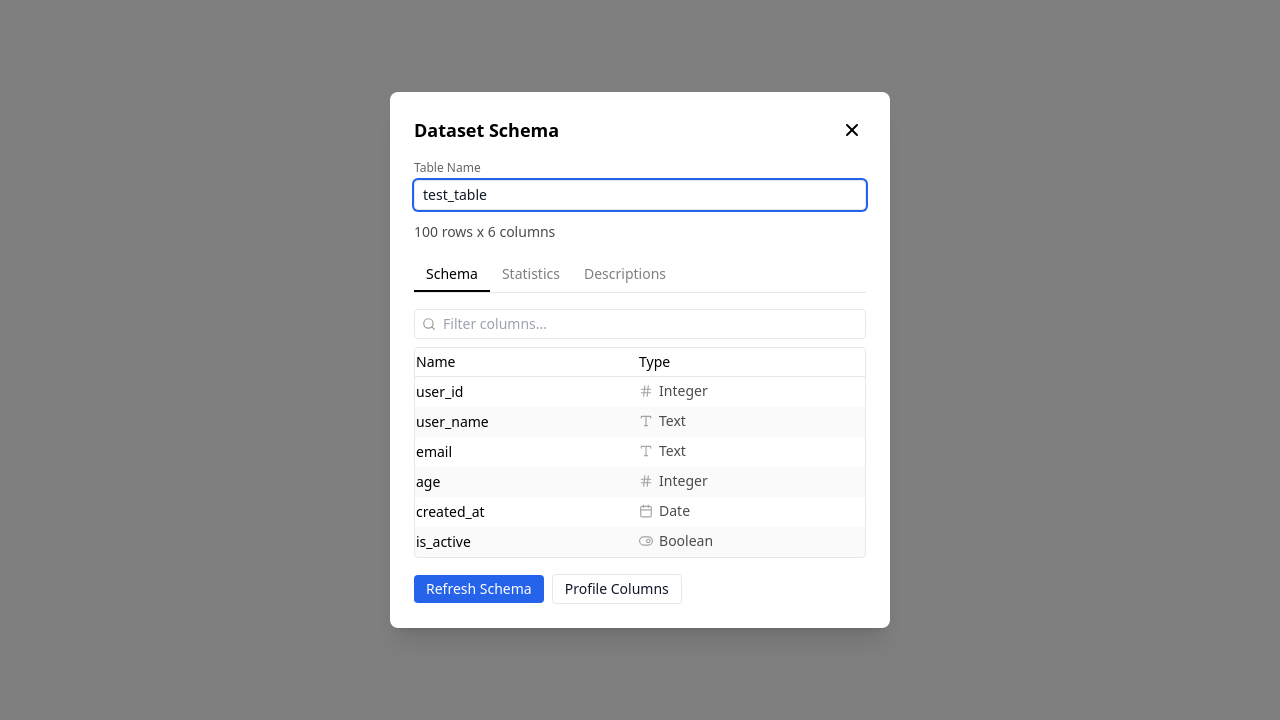
Scenario: SM-SEARCH-4: Shows no-results message › shows no results message when search has no matches
This screenshot has width=1280, height=720.
Type "nonexistent" into the field with test id "schema-column-search" at (640, 324), box [414,309,866,339]
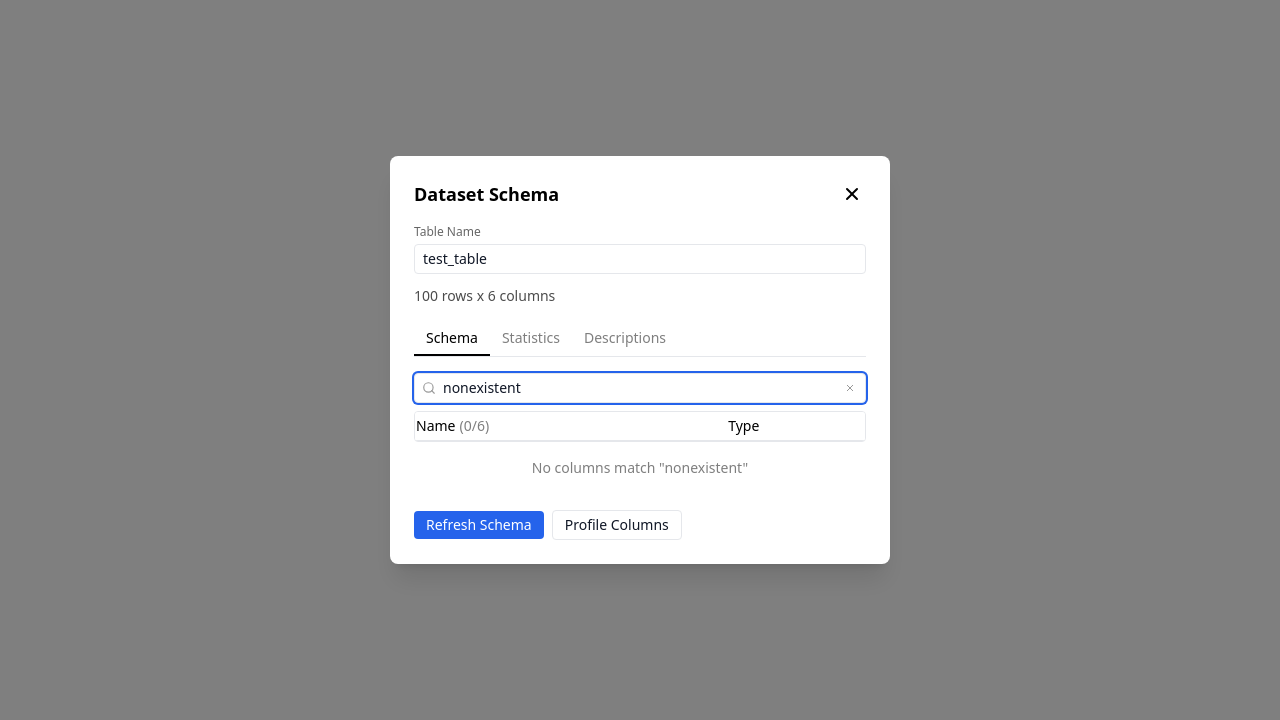
expect the text "No columns match \"nonexistent\"" is shown: met, box [532,458,748,477]
